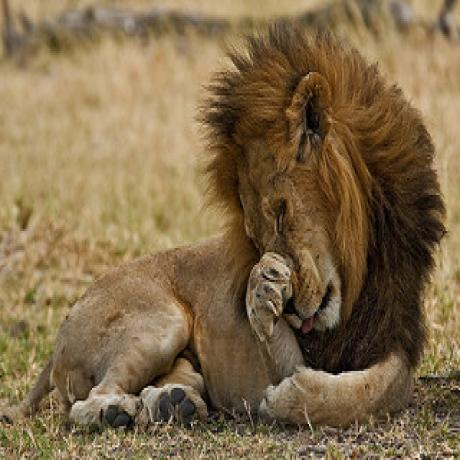Lion: (34, 14, 442, 428)
